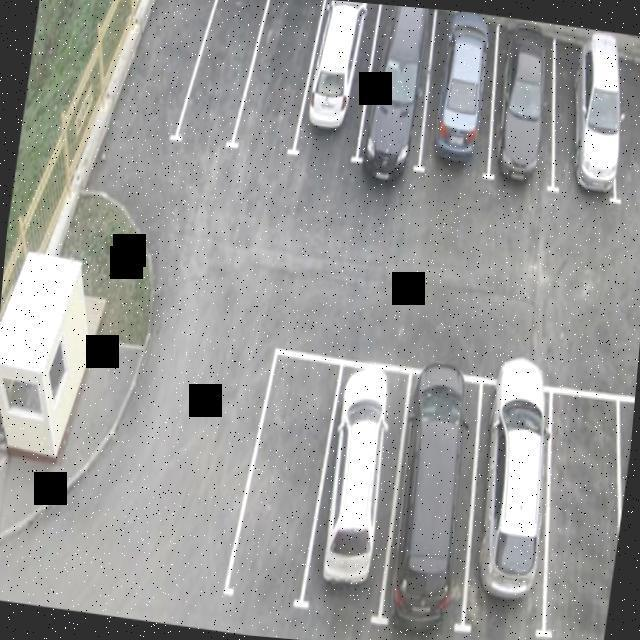car: (374, 357, 492, 636), (457, 340, 566, 640), (298, 358, 402, 624), (414, 8, 508, 185), (475, 18, 567, 198), (538, 24, 630, 198), (359, 3, 442, 180), (297, 0, 382, 164)
free: (222, 343, 342, 624), (533, 374, 635, 640), (116, 0, 213, 141), (236, 0, 321, 160), (186, 0, 262, 153), (601, 61, 640, 201)
